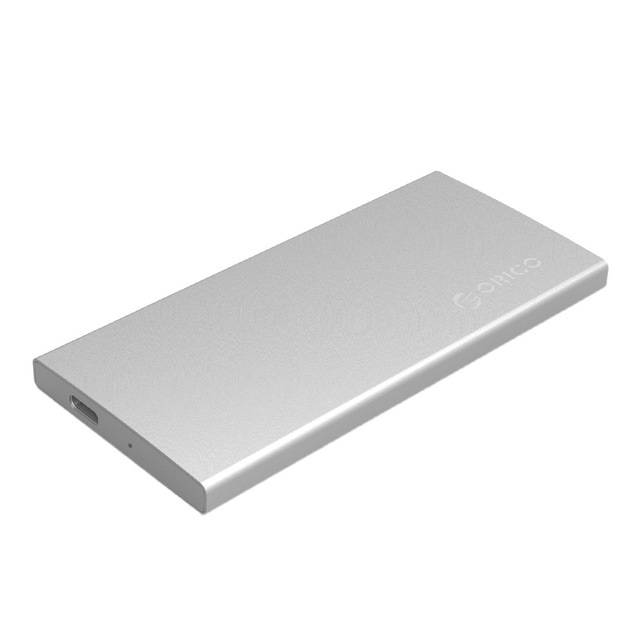M2 SSD Enclosure: (25, 156, 619, 537)
